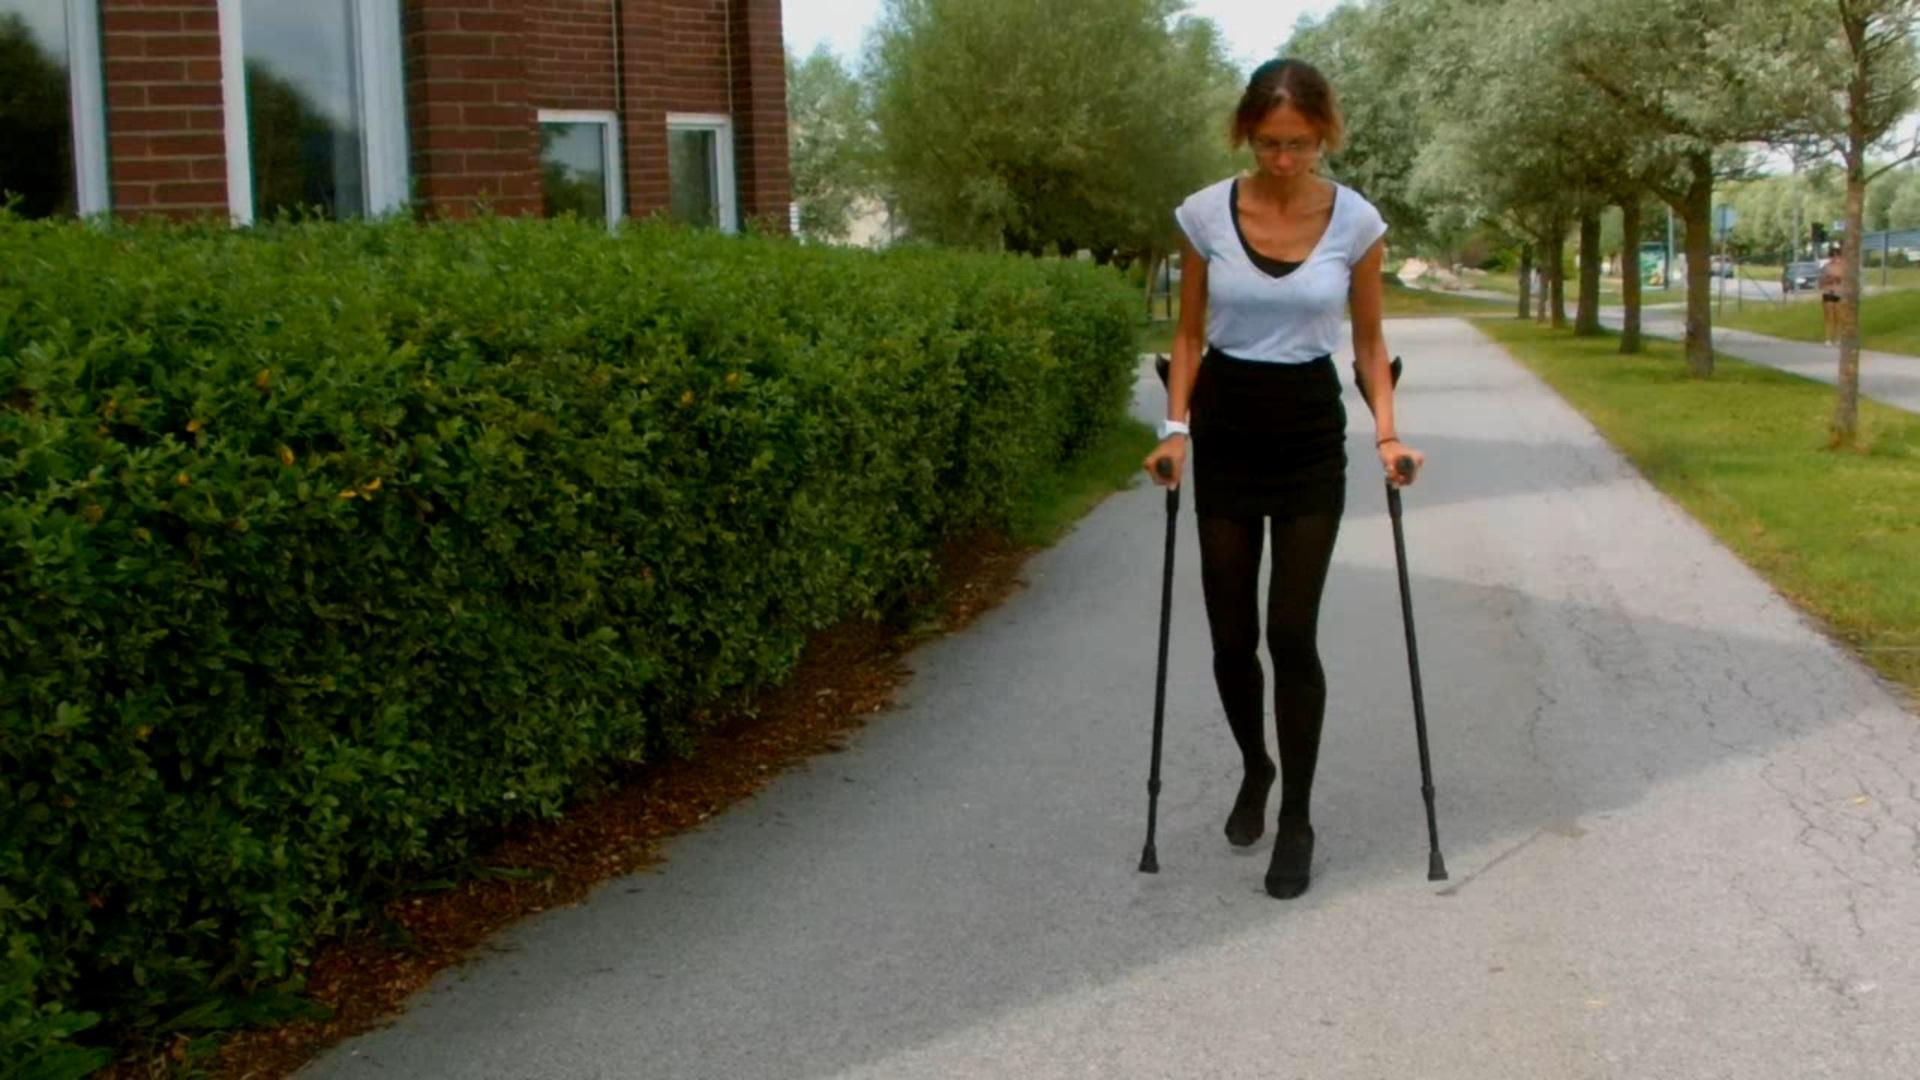crutches: (1139, 58, 1447, 901)
